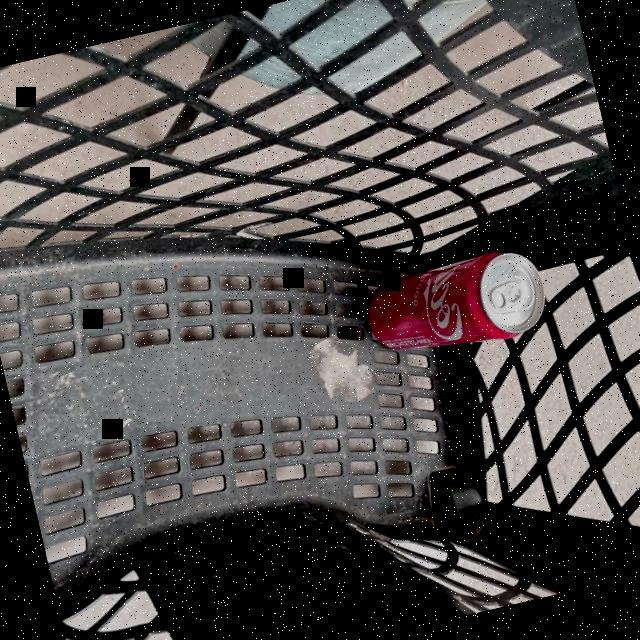can: (348, 221, 582, 385)
